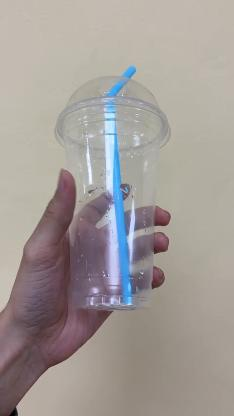Plastic Cup: (52, 75, 174, 310)
